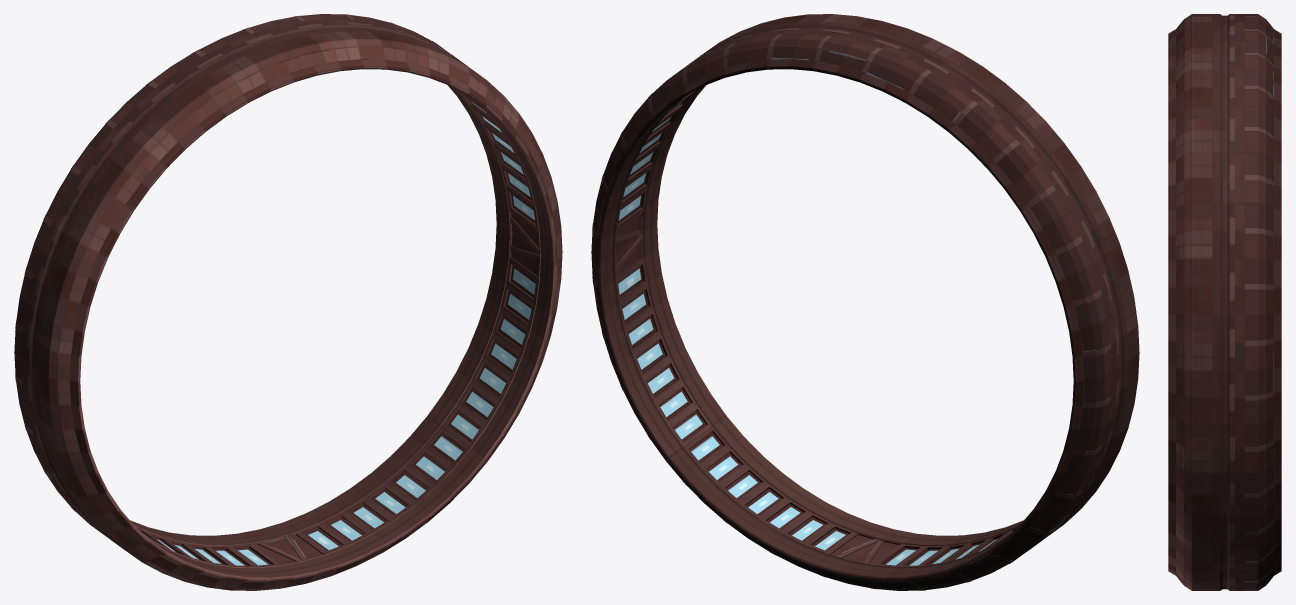
Rendered from spacering.obj.
3 renders of one model, left to right at view 1: azimuth 30°, elevation 25°; view 2: azimuth 150°, elevation 25°; view 3: azimuth 270°, elevation 25°, orthographic. The views are drawn at different scales.
Visible parts, largest first — view 1: Cylinder.004; view 2: Cylinder.004; view 3: Cylinder.004.
Boxes of the visible parts, x1,y1,x2,y2 form: Cylinder.004: (14,14,562,590); Cylinder.004: (591,14,1139,590); Cylinder.004: (1168,14,1281,590).
Bounding box in the file's own units: 2.33 × 2.33 × 0.4566.
